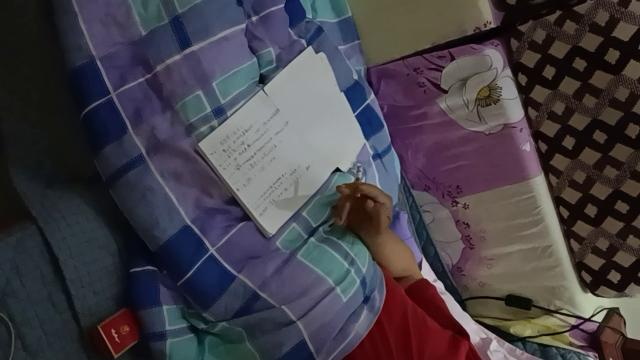Smoking: (354, 166, 362, 196)
